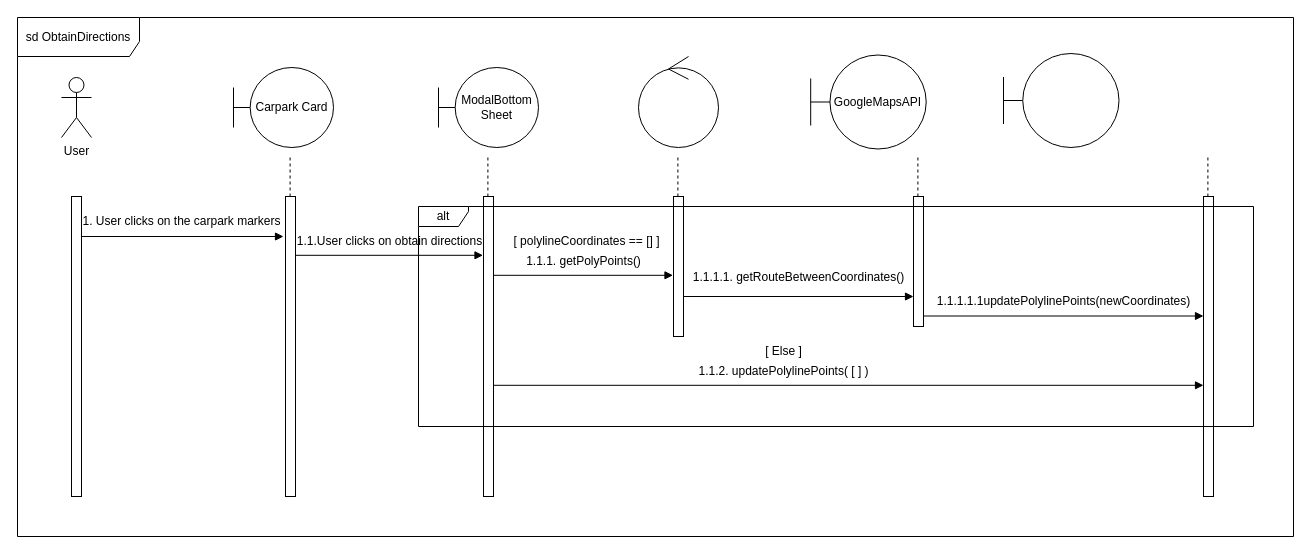
The diagram is 1311 pixels wide and 554 high, and some of its shapes have lost their labels. Here are the shapes that lost their labels. From the top down, the centre of each, then its label:
At [678,102]: "Polyline Distance".
At [1060,100]: "MapInterface".
